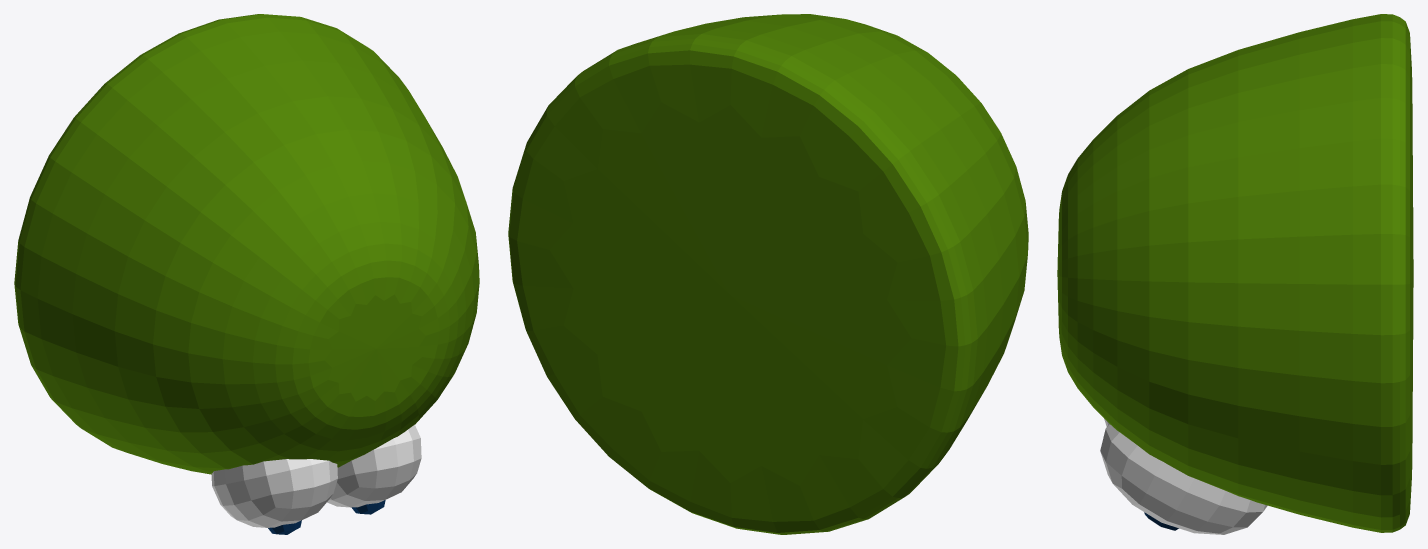
Rendered from blob.fbx.
3 views of the same model, side by side, from view 1: azimuth 30°, elevation 25°; view 2: azimuth 150°, elevation 25°; view 3: azimuth 270°, elevation 25° (orthographic). The views are drawn at different scales.
Visible parts, largest first — view 1: Blob, eyes, eyeballs; view 2: Blob; view 3: Blob, eyes.
Boxes of the visible parts, x1,y1,x2,y2 form: Blob: (14, 14, 479, 474); eyes: (211, 424, 421, 527); eyeballs: (268, 500, 385, 534); Blob: (508, 14, 1028, 534); Blob: (1057, 14, 1413, 532); eyes: (1100, 418, 1267, 534).
Bounding box in the file's own units: 26209 × 26209 × 17972.
